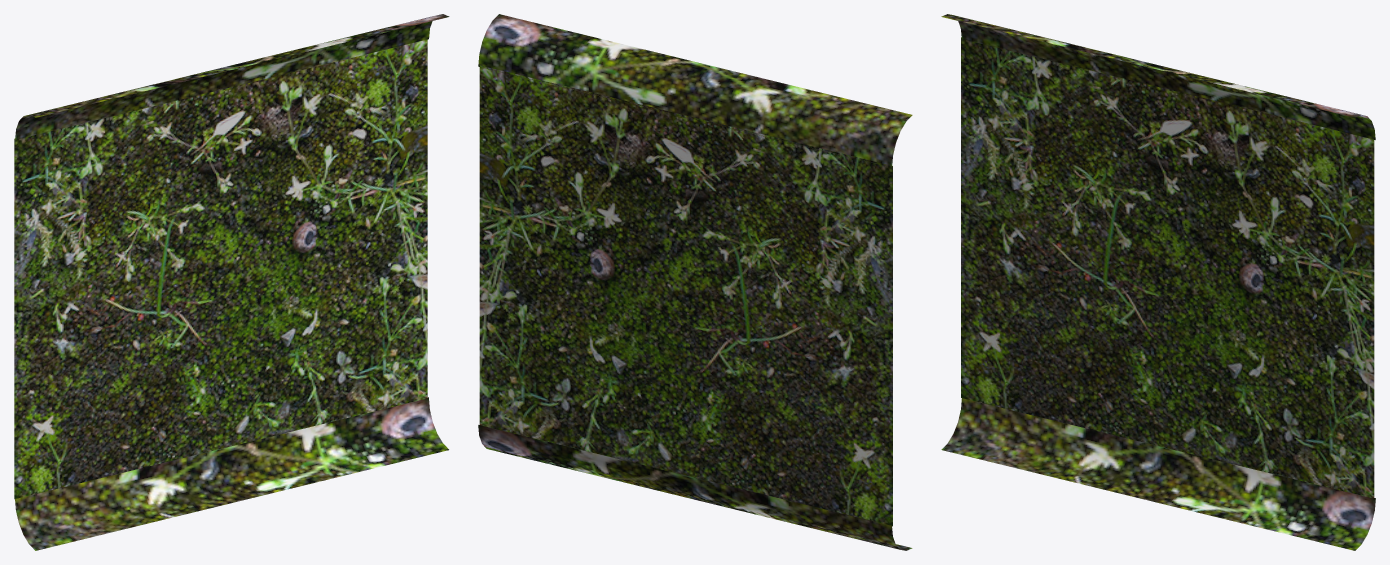
Rendered from Plant_wall.obj.
The picture shows the model from 3 angles, left to right: view 1: azimuth 30°, elevation 25°; view 2: azimuth 150°, elevation 25°; view 3: azimuth 330°, elevation 25°; orthographic projection.
Parts seen in each view (by area): view 1: wall; view 2: wall; view 3: wall.
Part boxes in pixels (x1,y1,x2,y2): wall: (14, 14, 449, 550); wall: (478, 14, 912, 550); wall: (941, 14, 1375, 550).
Bounding box in the file's own units: 1.01 × 1 × 0.0876.
